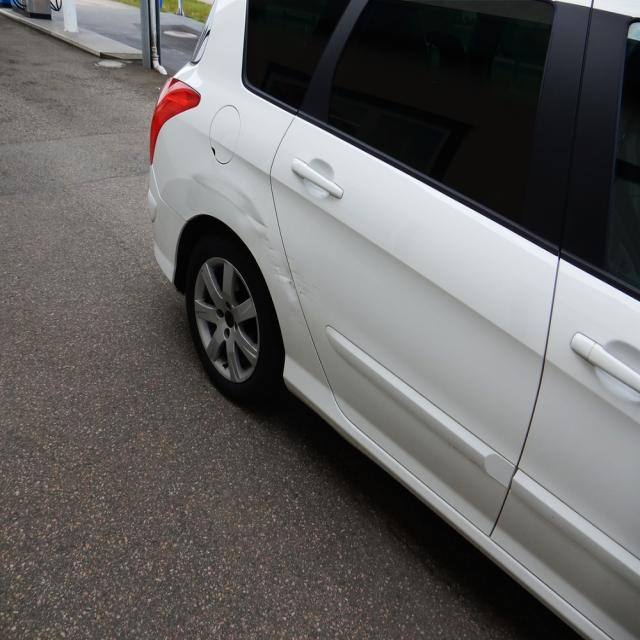dent: (187, 175, 299, 303)
scratch: (291, 261, 320, 303)
